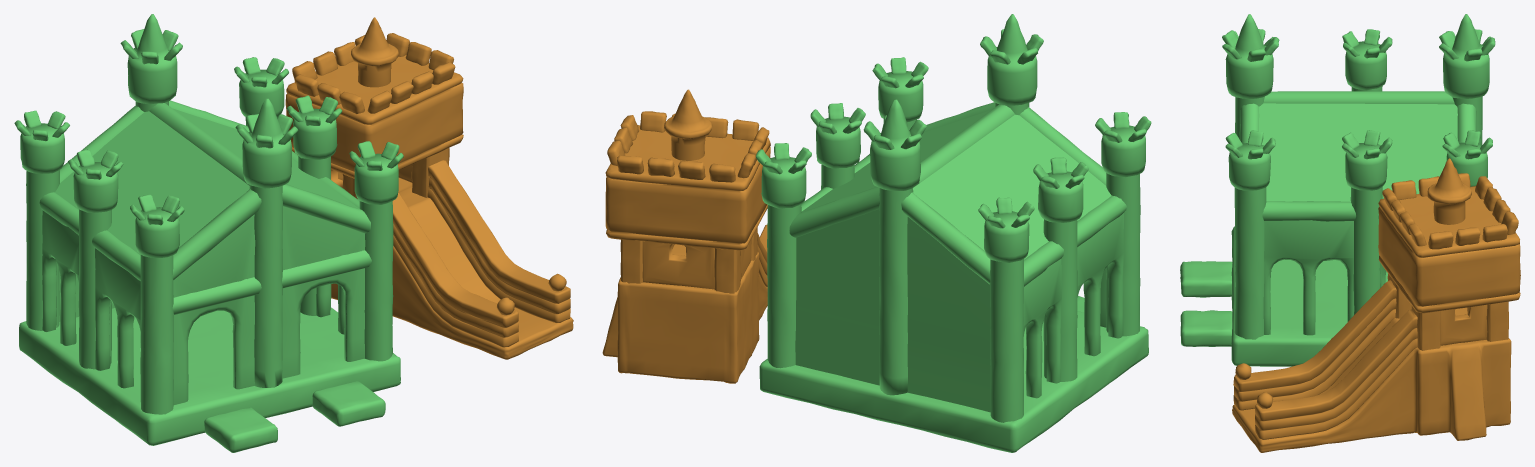
Rendered from Inflatable_castle.fbx.
The picture shows the model from 3 angles, left to right: view 1: azimuth 30°, elevation 25°; view 2: azimuth 150°, elevation 25°; view 3: azimuth 270°, elevation 25°; orthographic projection. The views are drawn at different scales.
Visible parts, largest first — view 1: Inf_castle, Inf_Slope; view 2: Inf_castle, Inf_Slope; view 3: Inf_castle, Inf_Slope.
Part boxes in pixels (left/top/right/bottom): Inf_castle: left=14, top=14, right=403, bottom=452; Inf_Slope: left=285, top=17, right=573, bottom=359; Inf_castle: left=755, top=14, right=1151, bottom=452; Inf_Slope: left=602, top=89, right=770, bottom=383; Inf_castle: left=1180, top=14, right=1495, bottom=366; Inf_Slope: left=1232, top=158, right=1520, bottom=452.
Size of the model in its own units: 1558 by 1045 by 1091.
